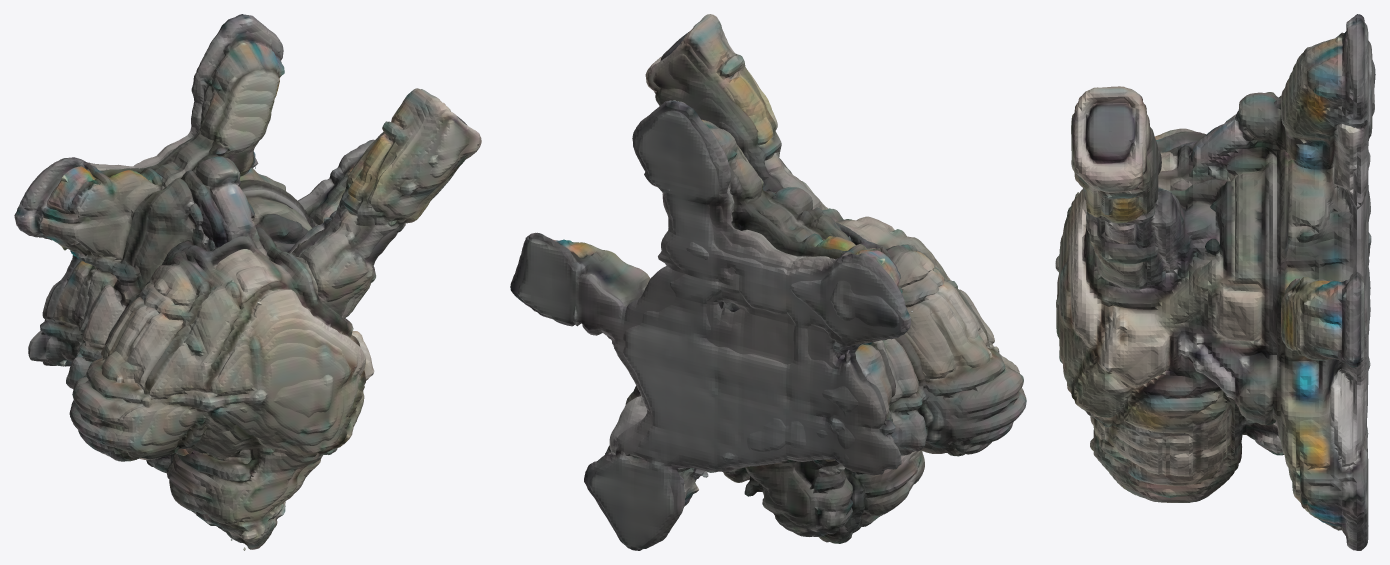
File: mule.glb
3 renders of one model, left to right at view 1: azimuth 30°, elevation 25°; view 2: azimuth 150°, elevation 25°; view 3: azimuth 270°, elevation 25°, orthographic. The views are drawn at different scales.
Visible parts, largest first — view 1: geometry_0; view 2: geometry_0; view 3: geometry_0.
Boxes of the visible parts, x1,y1,x2,y2 form: geometry_0: (14, 14, 481, 550); geometry_0: (510, 14, 1026, 550); geometry_0: (1055, 14, 1375, 550).
Size of the model in its own units: 0.9678 by 1.03 by 0.5715.
